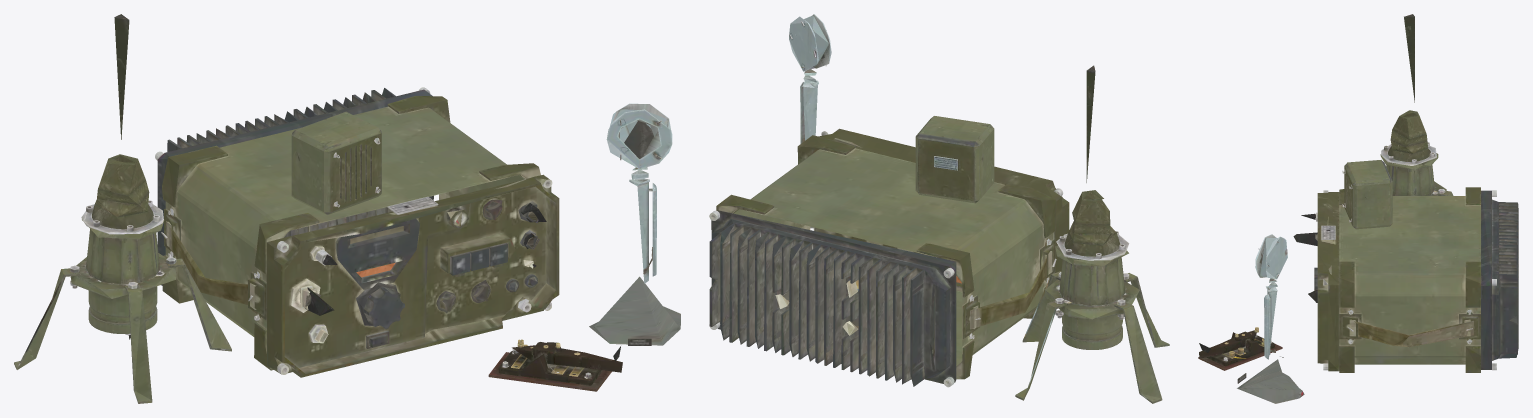
3 views of the same model, side by side, from view 1: azimuth 30°, elevation 25°; view 2: azimuth 150°, elevation 25°; view 3: azimuth 270°, elevation 25° (orthographic). The views are drawn at different scales.
Parts seen in each view (by area): view 1: vintage_radio_transceiver, vintage_radio_transceiver_cable; view 2: vintage_radio_transceiver, vintage_radio_transceiver_cable; view 3: vintage_radio_transceiver, vintage_radio_transceiver_cable.
Part boxes in pixels (x1,y1,x2,y2): vintage_radio_transceiver: (155,87,559,377); vintage_radio_transceiver_cable: (14,14,680,403); vintage_radio_transceiver: (709,128,1069,387); vintage_radio_transceiver_cable: (789,14,1169,403); vintage_radio_transceiver: (1314,187,1518,372); vintage_radio_transceiver_cable: (1198,14,1453,403).
Bounding box in the file's own units: 0.5639 × 0.3317 × 0.4102.
2 materials, 2 textured.
